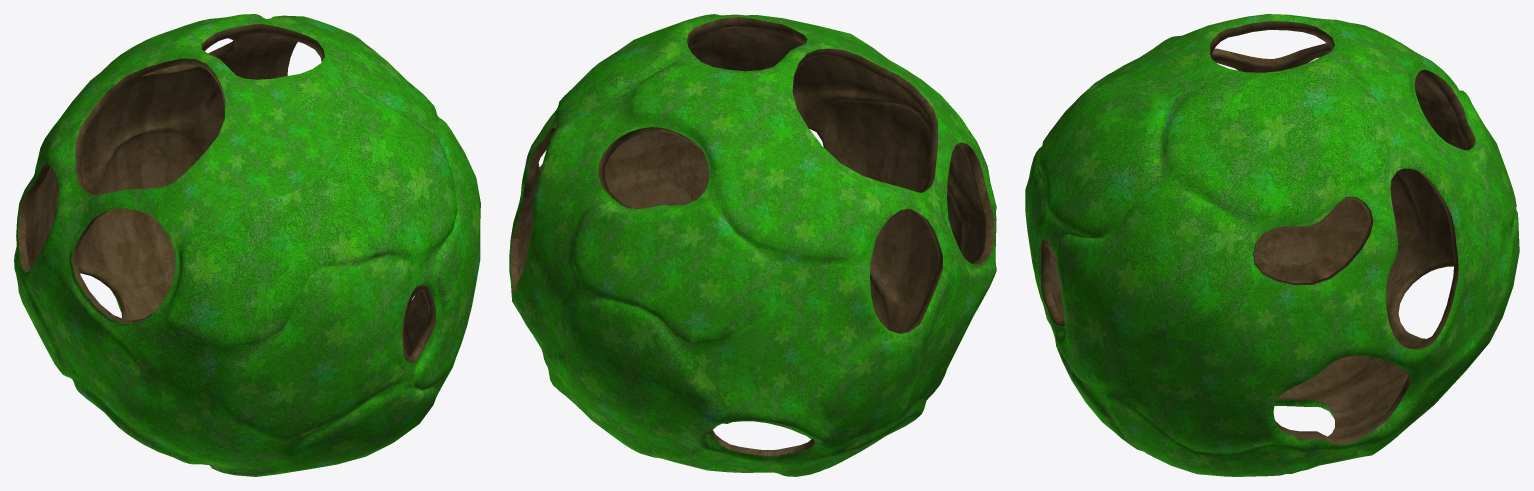
Rendered from HikeGardenHolePlanet.fbx.
3 renders of one model, left to right at view 1: azimuth 30°, elevation 25°; view 2: azimuth 150°, elevation 25°; view 3: azimuth 270°, elevation 25°, orthographic. The views are drawn at different scales.
Visible parts, largest first — view 1: mesh-0.001, mesh-0; view 2: mesh-0.001, mesh-0; view 3: mesh-0.001, mesh-0.
Part boxes in pixels (x1=…): mesh-0.001: x1=14, y1=14, x2=480, y2=476; mesh-0: x1=18, y1=23, x2=436, y2=363; mesh-0.001: x1=509, y1=14, x2=996, y2=476; mesh-0: x1=510, y1=17, x2=994, y2=455; mesh-0.001: x1=1025, y1=14, x2=1519, y2=476; mesh-0: x1=1041, y1=21, x2=1475, y2=444.
Size of the model in its own units: 738852 by 713142 by 784117.
Materials: 2 (2 with a texture image).
